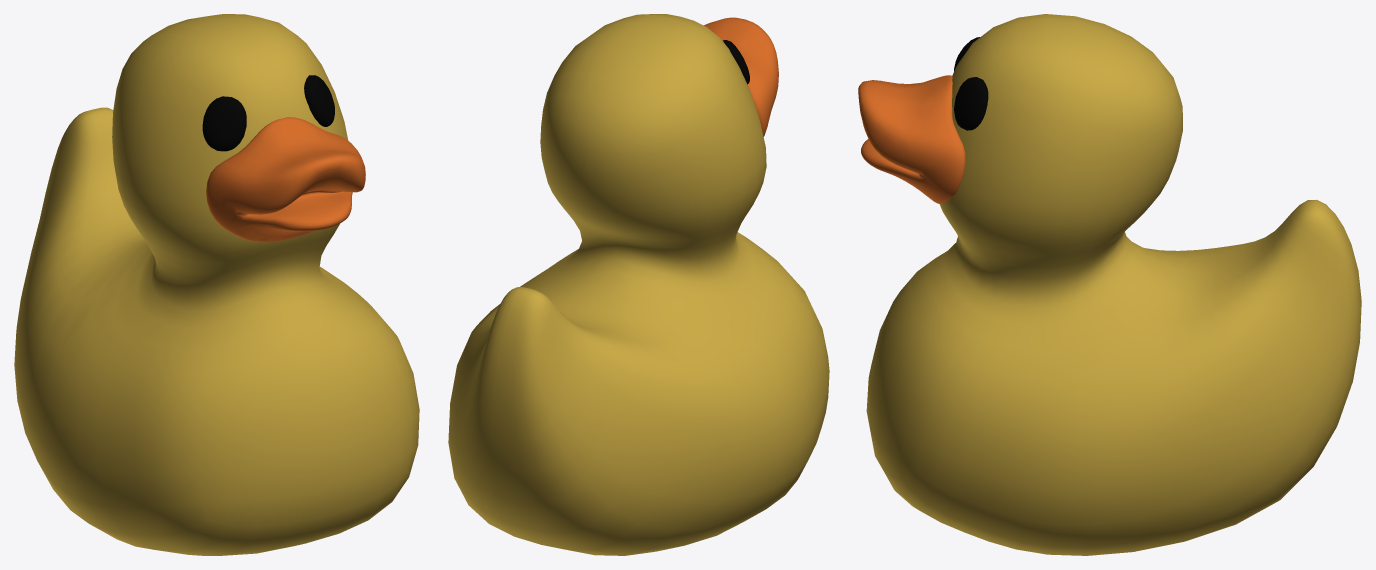
File: rubberduck.glb
The picture shows the model from 3 angles, left to right: view 1: azimuth 30°, elevation 25°; view 2: azimuth 150°, elevation 25°; view 3: azimuth 270°, elevation 25°; orthographic projection. The views are drawn at different scales.
Visible parts, largest first — view 1: body, beak, eyes; view 2: body, beak; view 3: body, beak, eyes.
Boxes of the visible parts, bbox=[...] form: body: bbox=[14, 14, 419, 555]; beak: bbox=[206, 117, 365, 242]; eyes: bbox=[202, 75, 334, 151]; body: bbox=[448, 14, 829, 555]; beak: bbox=[704, 17, 778, 136]; body: bbox=[866, 14, 1361, 555]; beak: bbox=[858, 75, 965, 203]; eyes: bbox=[954, 37, 988, 130].
Bounding box in the file's own units: 0.1837 × 0.2697 × 0.2494.
